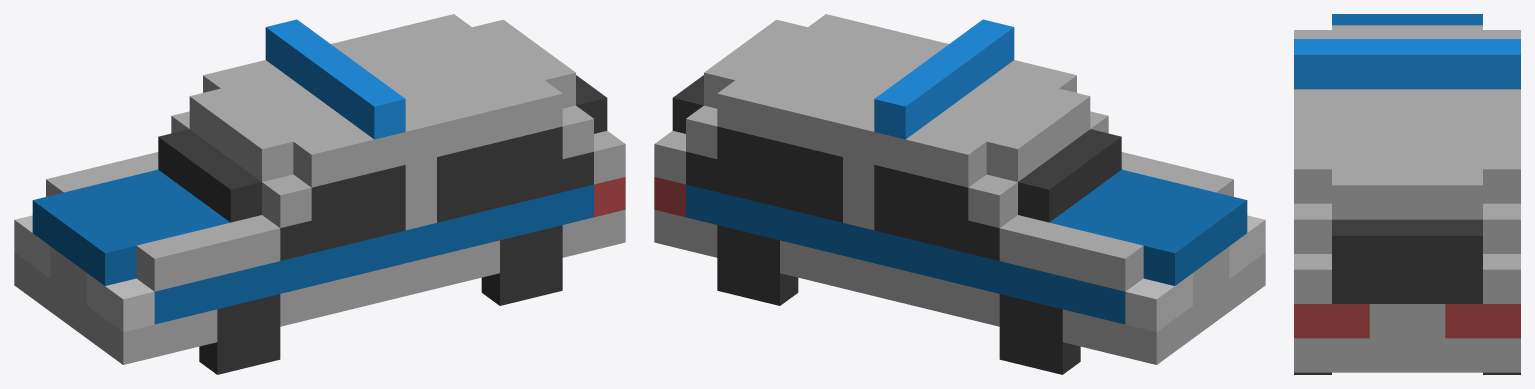
The model's file is emergency-police-1.gltf.
3 views of the same model, side by side, from view 1: azimuth 30°, elevation 25°; view 2: azimuth 150°, elevation 25°; view 3: azimuth 270°, elevation 25° (orthographic). The views are drawn at different scales.
Parts seen in each view (by area): view 1: model, wheels; view 2: model, wheels; view 3: model, wheels.
Part boxes in pixels (box(x1,y1,x2,y2)): model: box(14, 14, 625, 364); wheels: box(199, 225, 562, 374); model: box(654, 14, 1265, 364); wheels: box(717, 225, 1080, 374); model: box(1294, 14, 1520, 372); wheels: box(1294, 372, 1520, 374).
Size of the model in its own units: 1.6 by 0.7 by 0.6.
2 materials, 2 textured.
